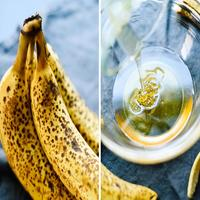banane: (1, 18, 129, 200)
